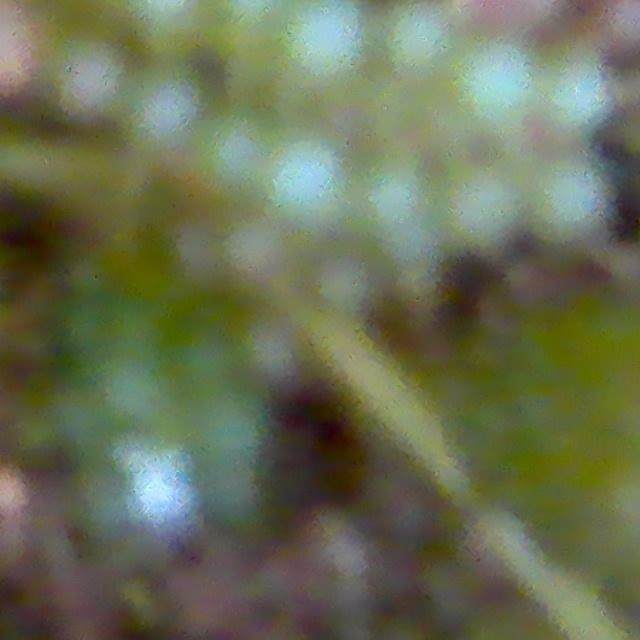SeaGrape: (263, 127, 360, 231), (449, 37, 543, 133), (530, 151, 610, 254), (280, 0, 360, 92), (123, 64, 205, 153), (193, 114, 273, 197), (192, 385, 271, 469), (444, 170, 524, 251), (359, 158, 430, 246), (57, 37, 124, 127), (382, 0, 456, 76), (218, 217, 288, 294), (547, 61, 610, 134)
